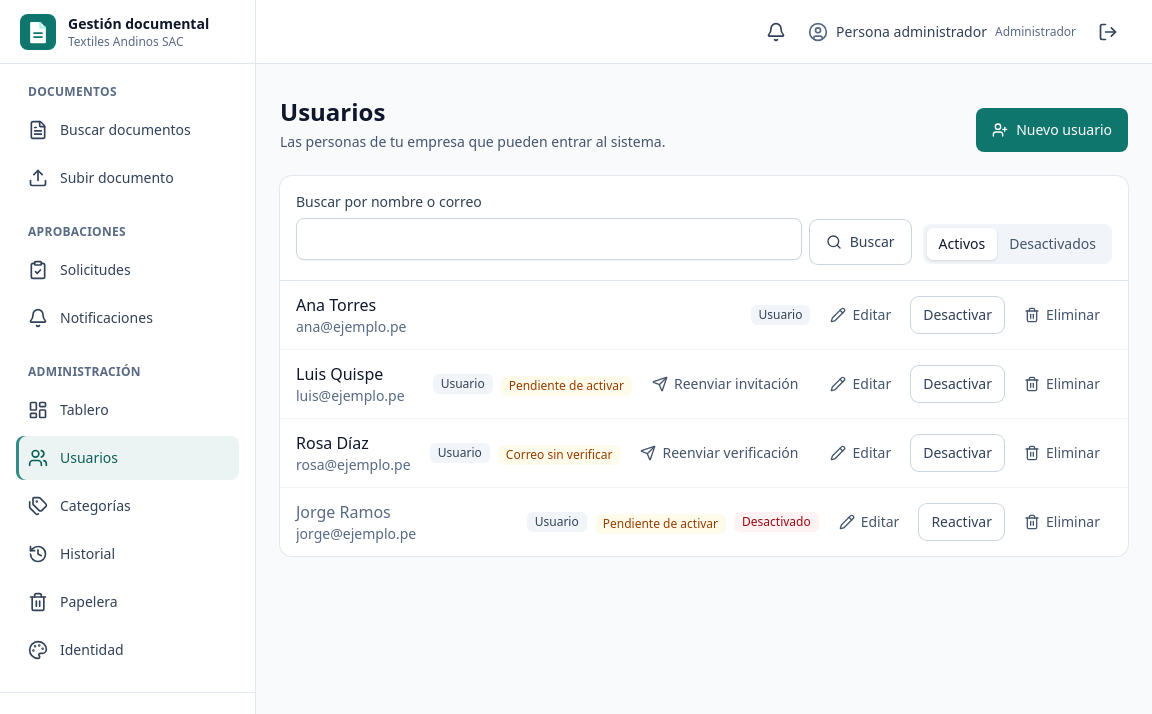
Test: Usuarios: desactivar y eliminar, siempre con confirmación (D46) › eliminar nombra a la persona, explica que es para siempre y que su traza se conserva; al confirmar, la quita
Click the button with aria-label "Eliminar a Ana Torres" at (1062, 315), box [1012,297,1112,333]
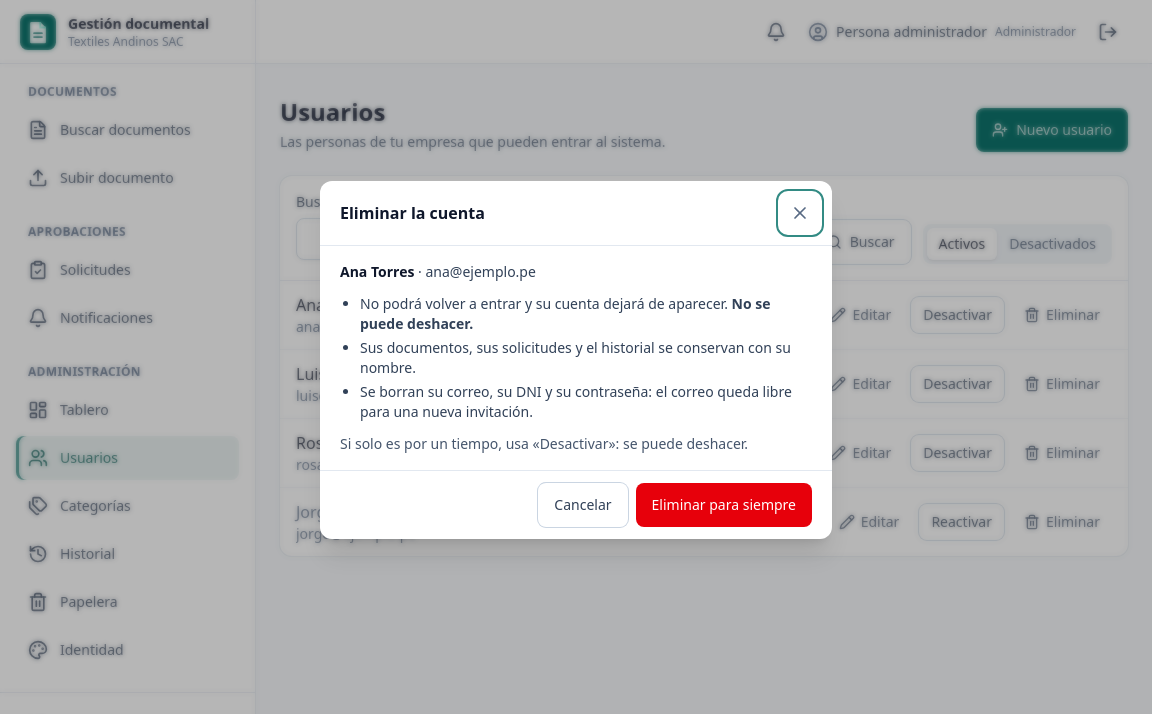
expect the text "ana@ejemplo.pe" is shown: met, box [426,262,536,281]
expect the text "No se puede deshacer." is shown: met, box [360,294,770,333]
expect the list item "Sus documentos, sus solicitudes y el historial se conservan con su nombre" is shown: met, box [360,338,791,377]
Click the button "Eliminar para siempre" at (724, 505), box [636,483,812,527]
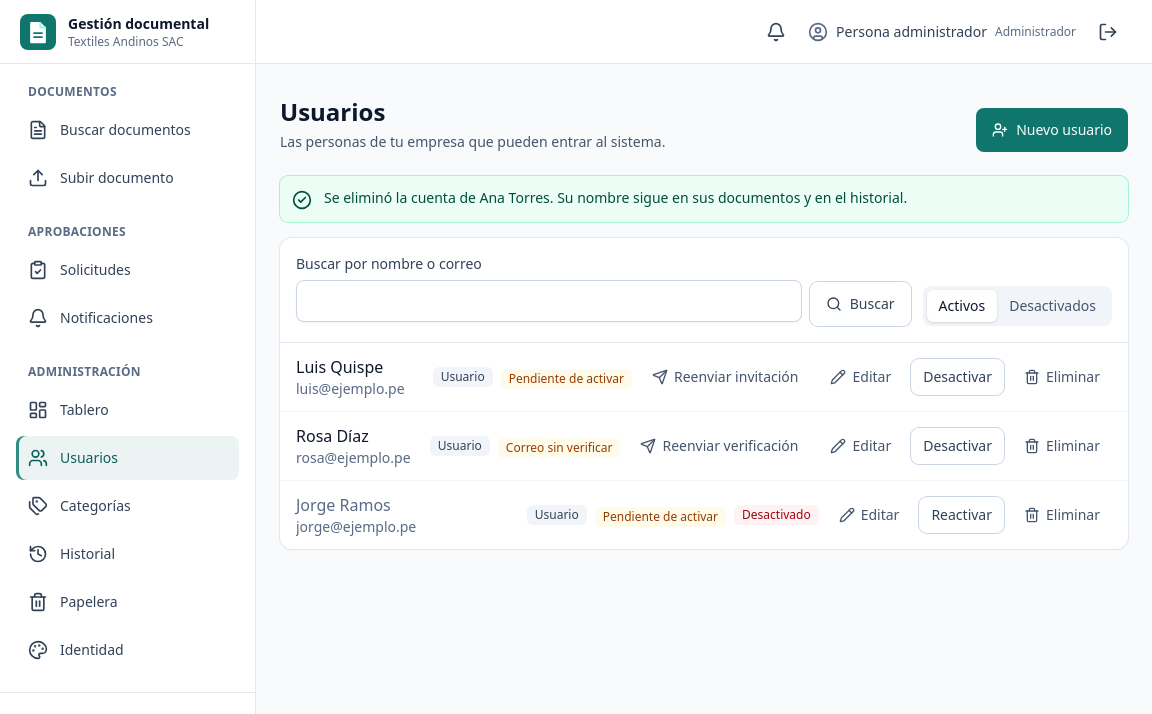
expect the text "Se eliminó la cuenta de Ana Torres" is shown: met, box [324,188,907,207]
